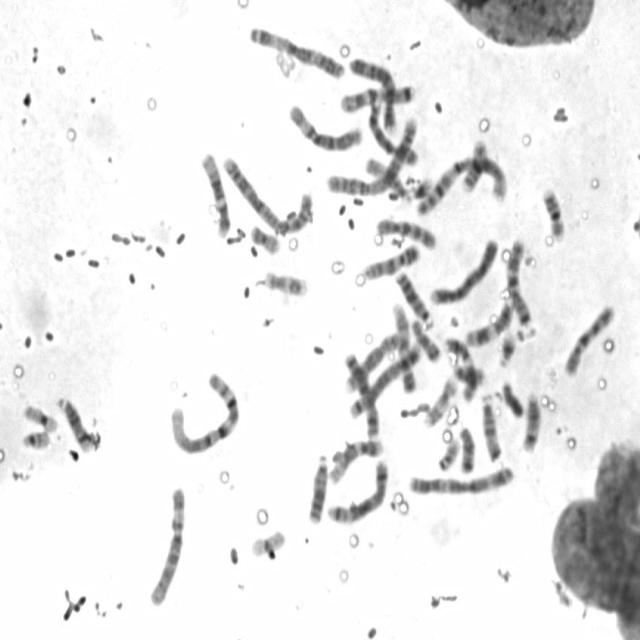A1: (412, 147, 511, 217), (166, 365, 242, 456)
A2: (321, 110, 420, 198), (218, 149, 316, 236)
A3: (245, 19, 348, 81), (406, 459, 516, 497)
B4: (426, 232, 500, 308), (346, 51, 402, 134)
B5: (345, 339, 423, 421), (324, 453, 392, 526)
C10: (560, 298, 617, 378), (373, 212, 438, 251)
C11: (440, 331, 478, 404), (462, 296, 515, 348)
C12: (326, 432, 386, 485), (198, 146, 232, 238)
C6: (144, 480, 188, 608), (284, 98, 366, 154)
C7: (503, 233, 535, 332), (336, 78, 417, 114)
C8: (342, 325, 403, 394), (365, 96, 419, 167)
C9: (387, 295, 418, 395), (360, 238, 421, 282)
D13: (392, 265, 436, 330), (305, 448, 330, 526)
D14: (54, 391, 94, 452), (518, 387, 542, 454)
D15: (362, 151, 412, 203), (478, 387, 504, 463)
E16: (458, 134, 489, 195), (539, 182, 568, 242)
E17: (421, 372, 459, 429), (261, 264, 310, 298)
E18: (408, 314, 442, 364), (456, 421, 478, 475)
F19: (20, 398, 60, 434), (248, 524, 288, 558)
F20: (247, 219, 282, 255), (449, 359, 488, 386)
G21: (402, 172, 434, 202), (495, 326, 517, 368)
G22: (434, 433, 462, 472), (18, 424, 52, 450)
X: (341, 348, 383, 440)
Y: (498, 375, 526, 419)
